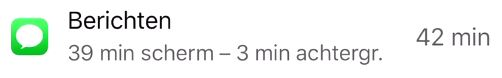name: (65, 6, 176, 34)
time: (67, 39, 136, 68), (234, 40, 295, 67)
